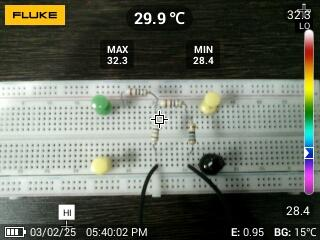resistor: (148, 117, 163, 147), (152, 98, 187, 109), (120, 85, 149, 98), (186, 119, 199, 147)
